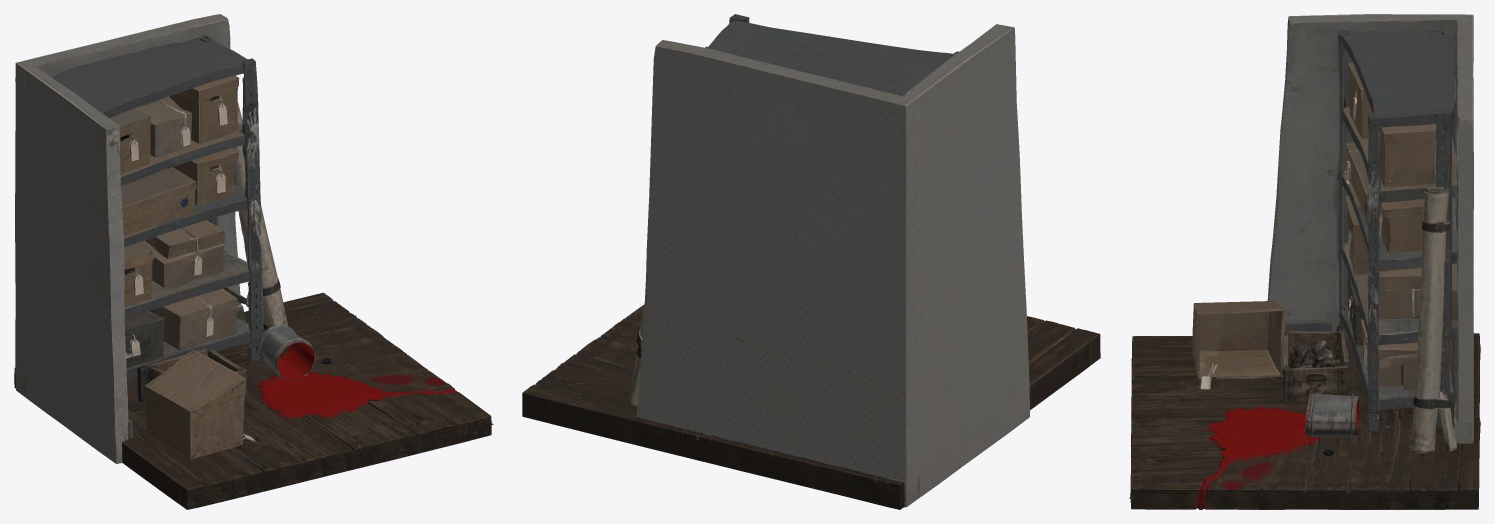
The picture shows the model from 3 angles, left to right: view 1: azimuth 30°, elevation 25°; view 2: azimuth 150°, elevation 25°; view 3: azimuth 270°, elevation 25°; orthographic projection. The views are drawn at different scales.
Parts seen in each view (by area): view 1: escala_real; view 2: escala_real; view 3: escala_real.
Boxes of the visible parts, <box> form: escala_real: <box>14,14,493,509</box>; escala_real: <box>522,14,1100,509</box>; escala_real: <box>1129,14,1480,509</box>.
Size of the model in its own units: 2.09 by 2.1 by 1.97.
Materials: 1 (1 with a texture image).
